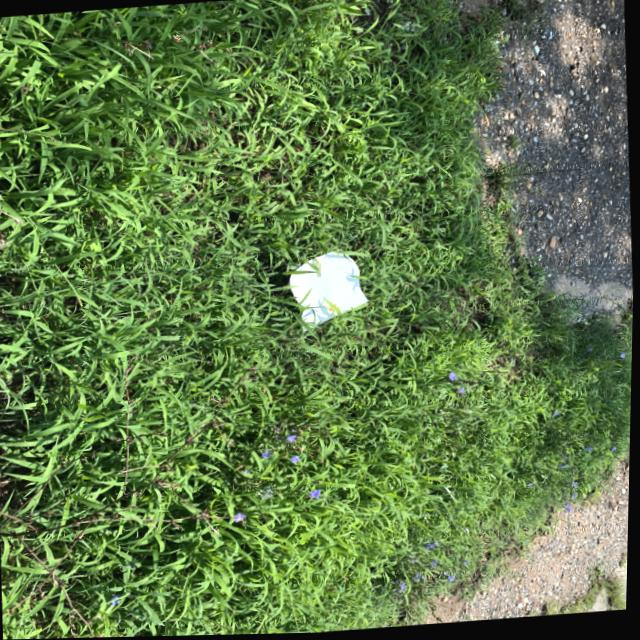Paper: (278, 245, 376, 335)
